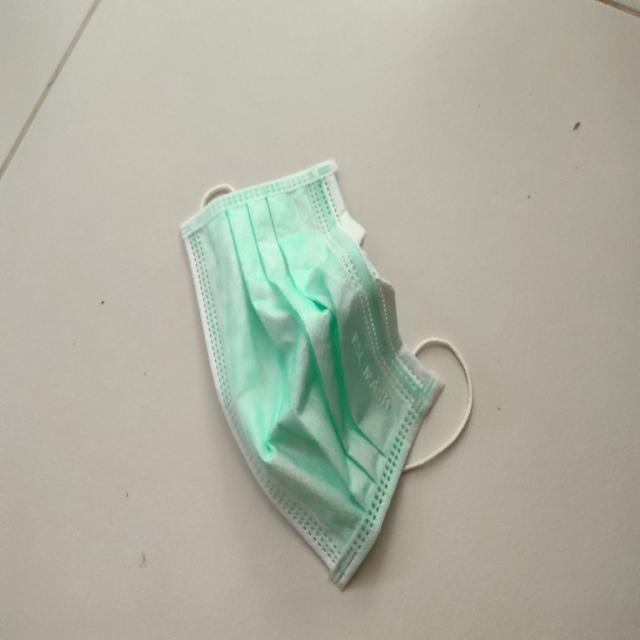non-organic waste: (177, 150, 475, 586)
